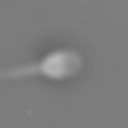normal: (1, 54, 43, 98)
